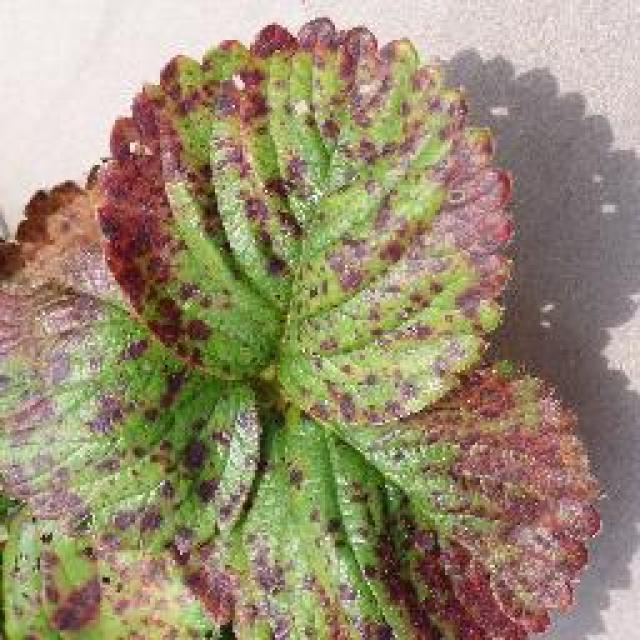Strawberry leaf scorch: (130, 97, 555, 640)
